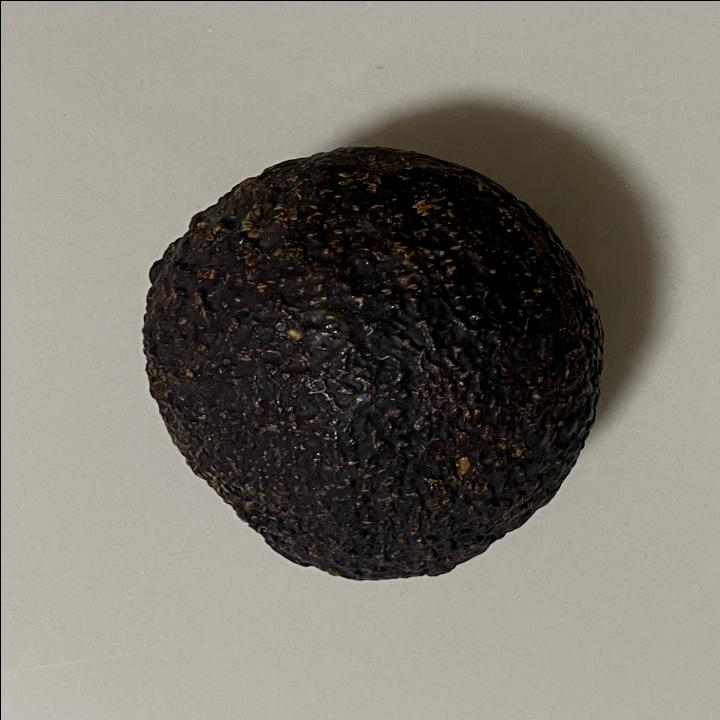Level3: (128, 138, 618, 592)
